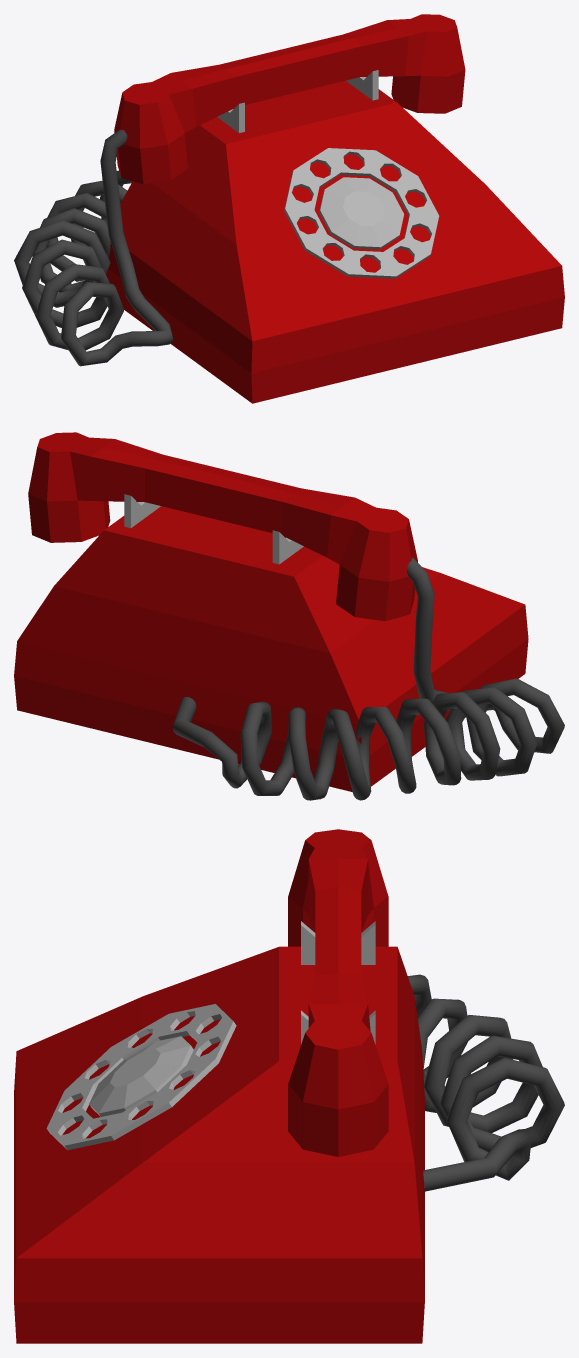
Rendered from HomePhone.fbx.
3 views of the same model, one above another, from view 1: azimuth 30°, elevation 25°; view 2: azimuth 150°, elevation 25°; view 3: azimuth 270°, elevation 25° (orthographic). The views are drawn at different scales.
Parts seen in each view (by area): view 1: Cube, Spiral; view 2: Cube, Spiral; view 3: Cube, Spiral.
Boxes of the visible parts, x1,y1,x2,y2 form: Cube: (106, 14, 564, 403); Spiral: (14, 129, 172, 366); Cube: (14, 432, 528, 791); Spiral: (172, 557, 564, 800); Cube: (14, 829, 424, 1343); Spiral: (408, 974, 564, 1191).
Size of the model in its own units: 139 by 68.97 by 110.
